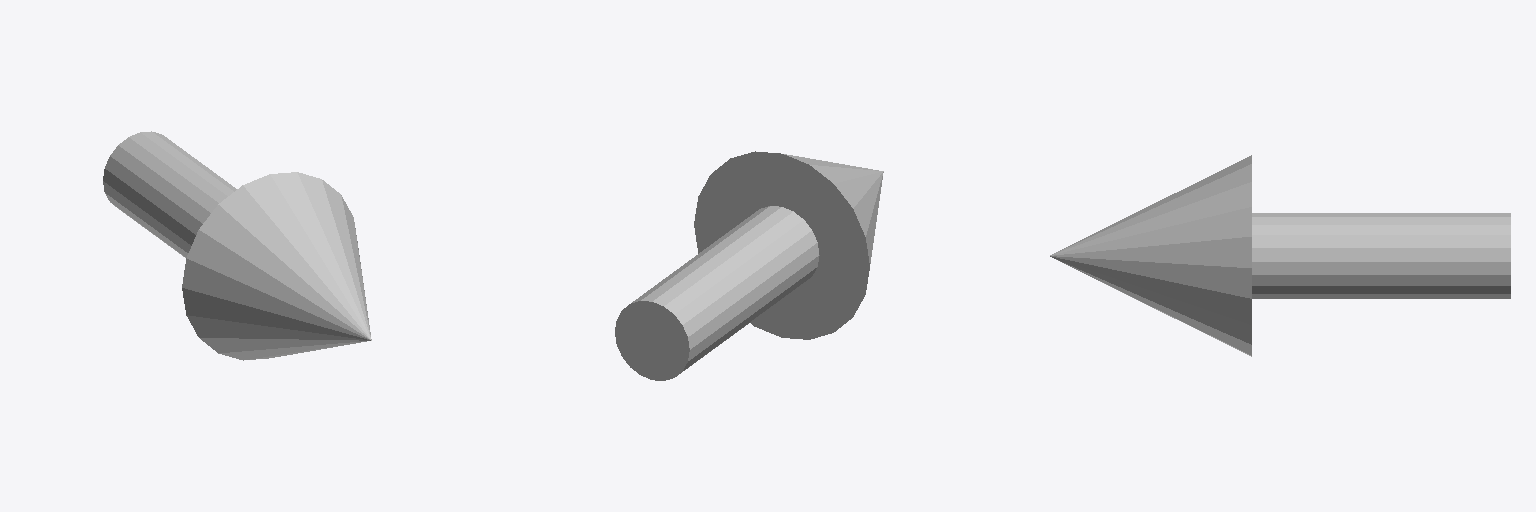
Rendered from Arrow_straight_Zpos.obj.
The picture shows the model from 3 angles: view 1: azimuth 30°, elevation 25°; view 2: azimuth 150°, elevation 25°; view 3: azimuth 270°, elevation 25°; orthographic projection.
Visible parts, largest first — view 1: pCone1, pCylinder1; view 2: pCone1, pCylinder1; view 3: pCylinder1, pCone1.
Boxes of the visible parts, x1,y1,x2,y2 form: pCone1: [182, 172, 371, 360]; pCylinder1: [103, 131, 236, 257]; pCone1: [694, 151, 883, 339]; pCylinder1: [615, 206, 819, 380]; pCylinder1: [1252, 213, 1510, 298]; pCone1: [1050, 155, 1251, 356].
Size of the model in its own units: 2 by 2 by 4.55.